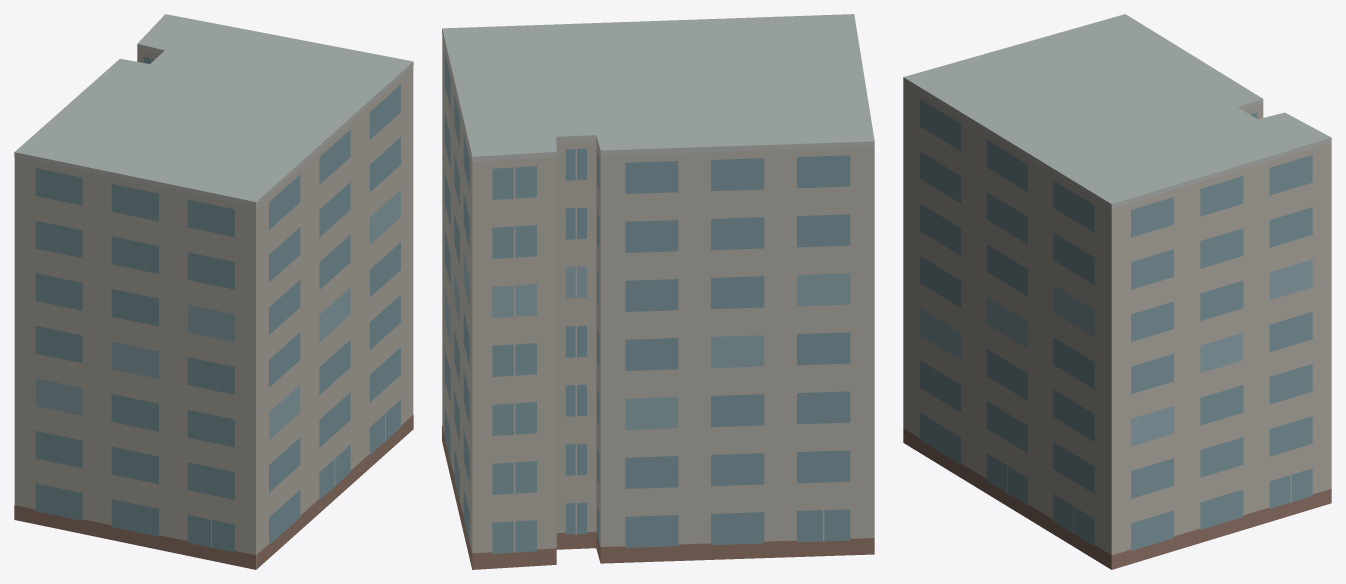
Rendered from survey-upis-32689326.glb.
3 renders of one model, left to right at view 1: azimuth 30°, elevation 25°; view 2: azimuth 150°, elevation 25°; view 3: azimuth 270°, elevation 25°, orthographic. The views are drawn at different scales.
Parts seen in each view (by area): view 1: survey-upis-32689326.tmp; view 2: survey-upis-32689326.tmp; view 3: survey-upis-32689326.tmp.
Boxes of the visible parts, box(x1,y1,x2,y2) form: survey-upis-32689326.tmp: box(14, 14, 413, 569); survey-upis-32689326.tmp: box(442, 14, 874, 569); survey-upis-32689326.tmp: box(903, 14, 1331, 569).
Bounding box in the file's own units: 21.54 × 19.3 × 20.5.
